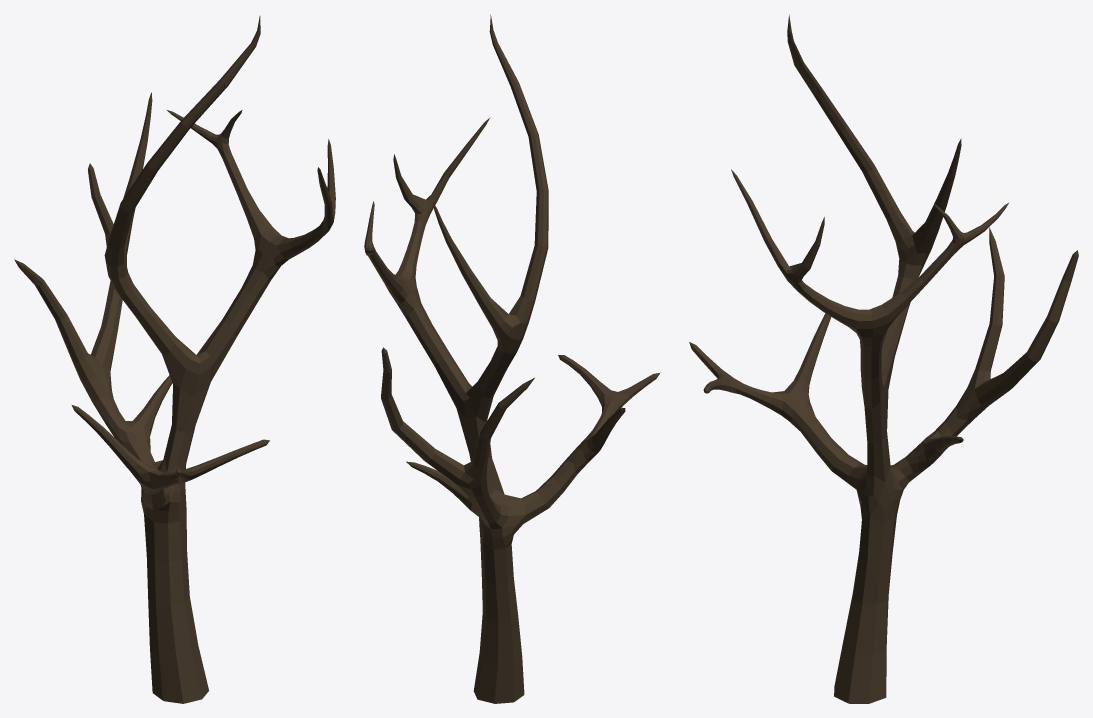
The model's file is Tree_Dead_1.fbx.
The picture shows the model from 3 angles, left to right: view 1: azimuth 30°, elevation 25°; view 2: azimuth 150°, elevation 25°; view 3: azimuth 270°, elevation 25°; orthographic projection. The views are drawn at different scales.
Visible parts, largest first — view 1: Dead_Tree1; view 2: Dead_Tree1; view 3: Dead_Tree1.
Part boxes in pixels (bbox=[...]): Dead_Tree1: bbox=[14, 16, 335, 703]; Dead_Tree1: bbox=[364, 14, 660, 703]; Dead_Tree1: bbox=[689, 14, 1078, 703].
Bounding box in the file's own units: 2.76 × 7.22 × 3.63.
